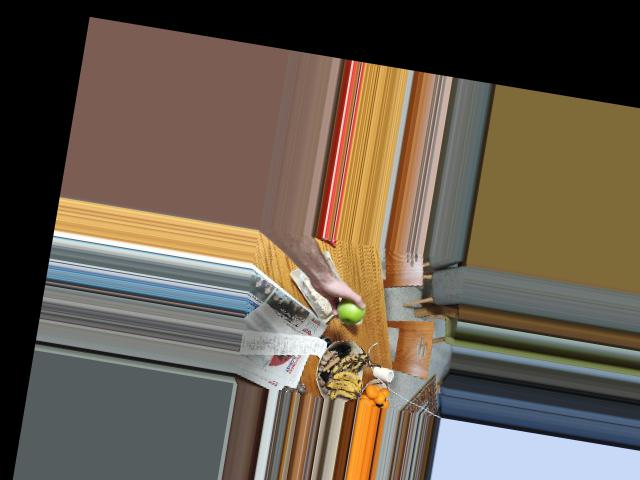apple: (330, 292, 369, 326)
